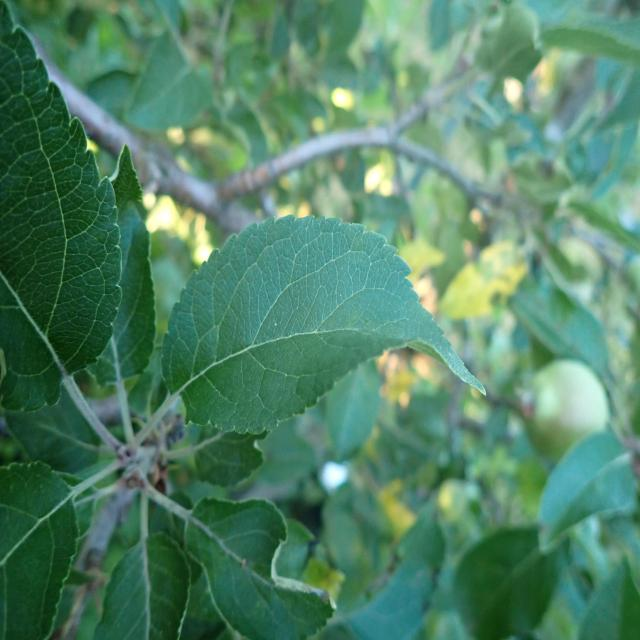healthy: (160, 214, 489, 436), (0, 0, 122, 414), (184, 494, 337, 640), (90, 145, 156, 387), (0, 458, 80, 640), (90, 533, 192, 640)
